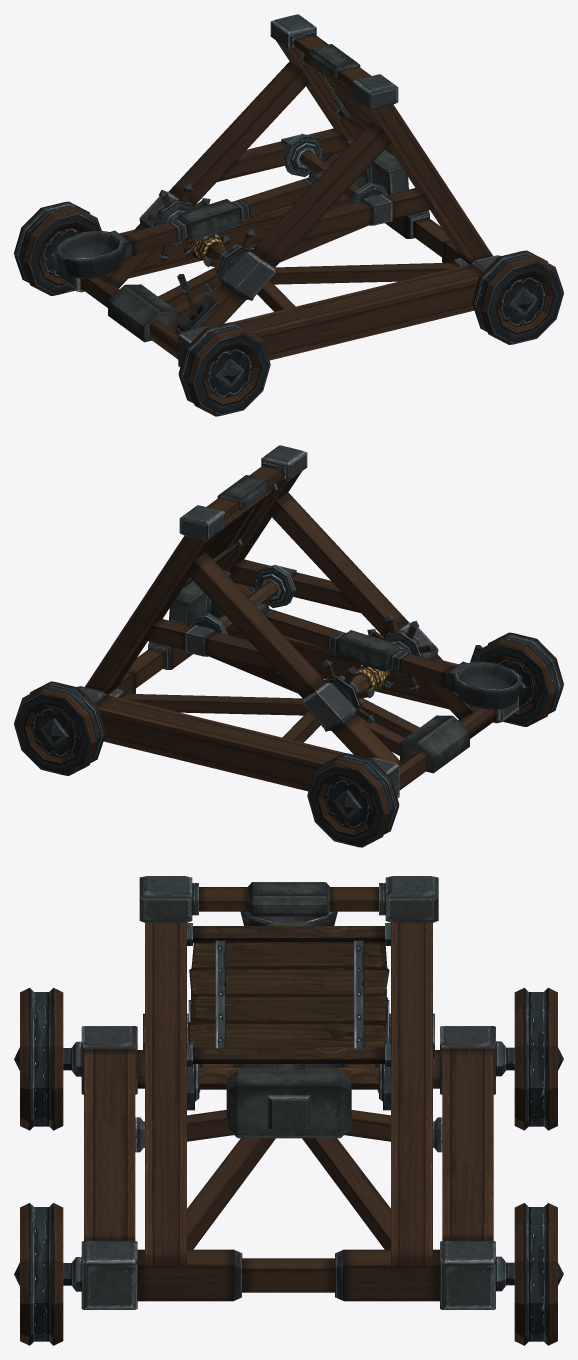
The model's file is catapult_type2.FBX.
3 renders of one model, top to bottom at view 1: azimuth 30°, elevation 25°; view 2: azimuth 150°, elevation 25°; view 3: azimuth 270°, elevation 25°, orthographic. The views are drawn at different scales.
Visible parts, largest first — view 1: catapult2_a, catapult2_b, catapult2_wheel1, catapult2_wheel2, catapult2_wheel4; view 2: catapult2_a, catapult2_b, catapult2_wheel4, catapult2_wheel3, catapult2_wheel1; view 3: catapult2_a, catapult2_b, catapult2_wheel4, catapult2_wheel3, catapult2_wheel1, catapult2_wheel2.
Boxes of the visible parts, x1,y1,x2,y2 form: catapult2_a: (59, 14, 500, 366); catapult2_b: (55, 133, 408, 279); catapult2_wheel1: (178, 322, 270, 416); catapult2_wheel2: (472, 250, 563, 344); catapult2_wheel4: (14, 201, 101, 295); catapult2_a: (77, 445, 518, 797); catapult2_b: (169, 564, 522, 710); catapult2_wheel4: (307, 753, 399, 847); catapult2_wheel3: (14, 681, 105, 775); catapult2_wheel1: (477, 632, 563, 726); catapult2_a: (81, 876, 495, 1309); catapult2_b: (187, 911, 390, 1138); catapult2_wheel4: (496, 988, 563, 1130); catapult2_wheel3: (496, 1203, 563, 1345); catapult2_wheel1: (14, 988, 81, 1130); catapult2_wheel2: (14, 1203, 81, 1345).
Size of the model in its own units: 390 by 225 by 296.
